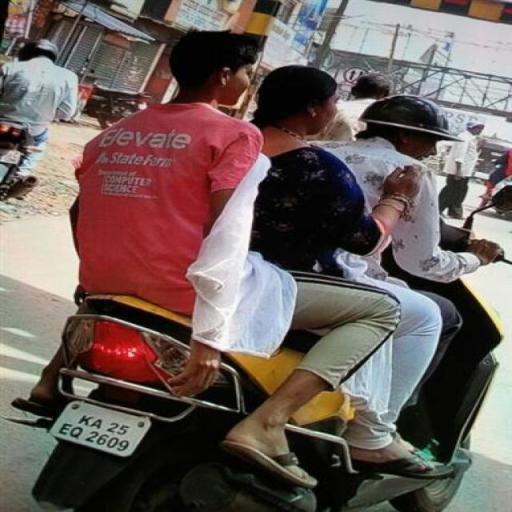tripple riding: (60, 27, 506, 304)
